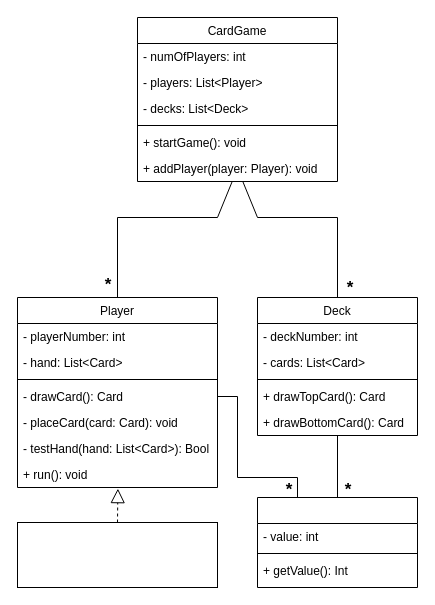
Image size: 435x605. Some labels were removed from this diagram. The box of each missing label's shape, as (x1, y1, x2, y2) in pixels:
<<Interface>> Runnable + run(): void: (16, 522, 218, 588)
Card: (256, 496, 418, 588)
